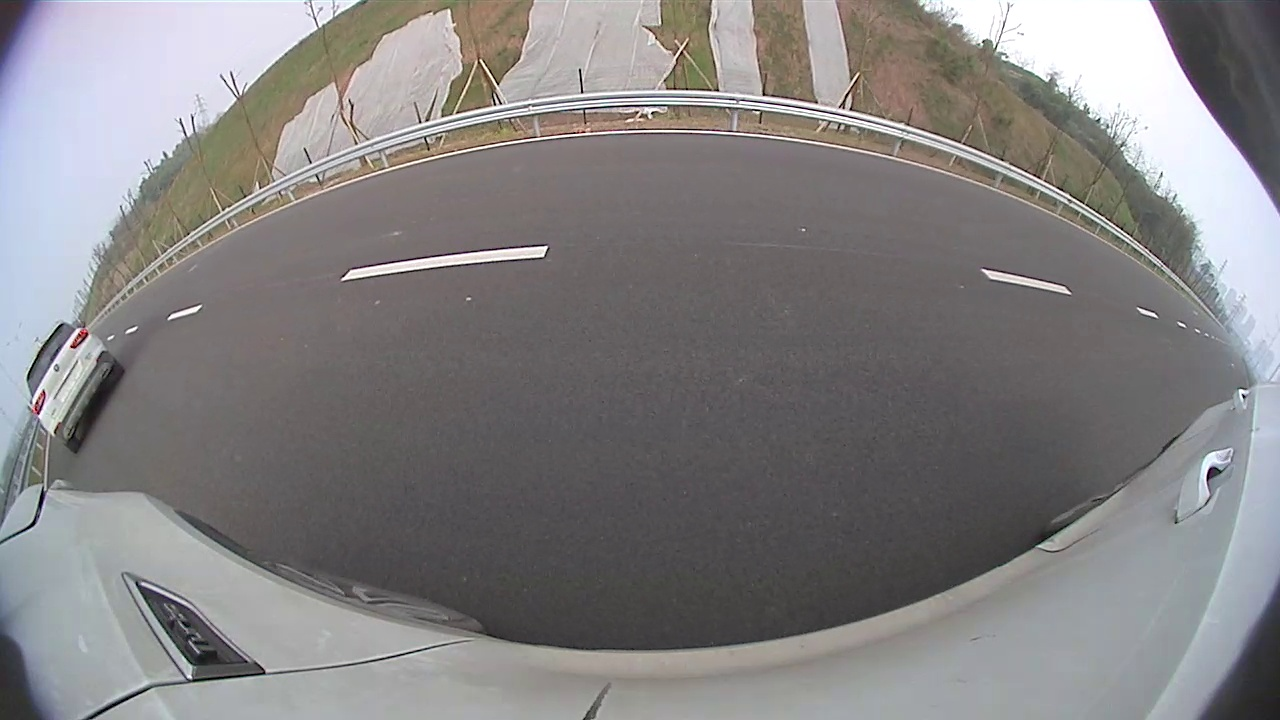car: (443, 143, 558, 219)
rear: (519, 180, 535, 212)
